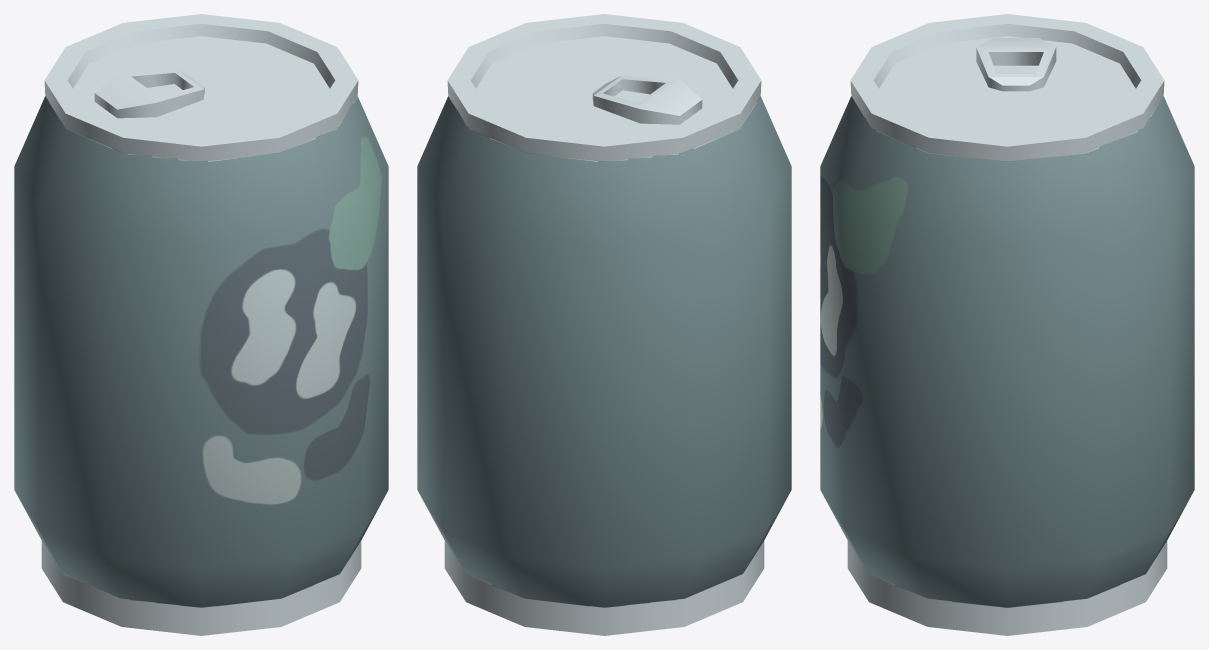
Rendered from soda_can.glb.
The picture shows the model from 3 angles, left to right: view 1: azimuth 30°, elevation 25°; view 2: azimuth 150°, elevation 25°; view 3: azimuth 270°, elevation 25°; orthographic projection.
Parts seen in each view (by area): view 1: SodaCan; view 2: SodaCan; view 3: SodaCan.
Boxes of the visible parts, x1,y1,x2,y2 form: SodaCan: (14,14,388,635); SodaCan: (417,14,791,635); SodaCan: (820,14,1194,635).
Bounding box in the file's own units: 0.0817 × 0.1184 × 0.0817.
Materials: 1 (1 with a texture image).
